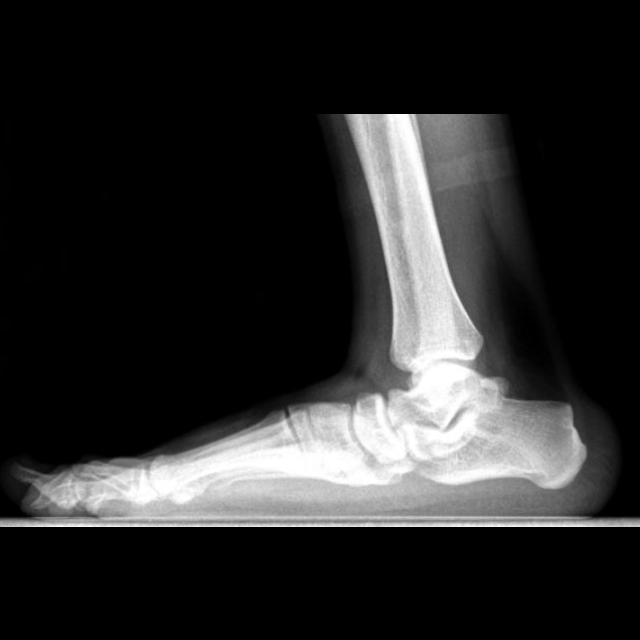a: (406, 395, 587, 488)
b: (352, 394, 404, 464)
c: (150, 408, 309, 494)
